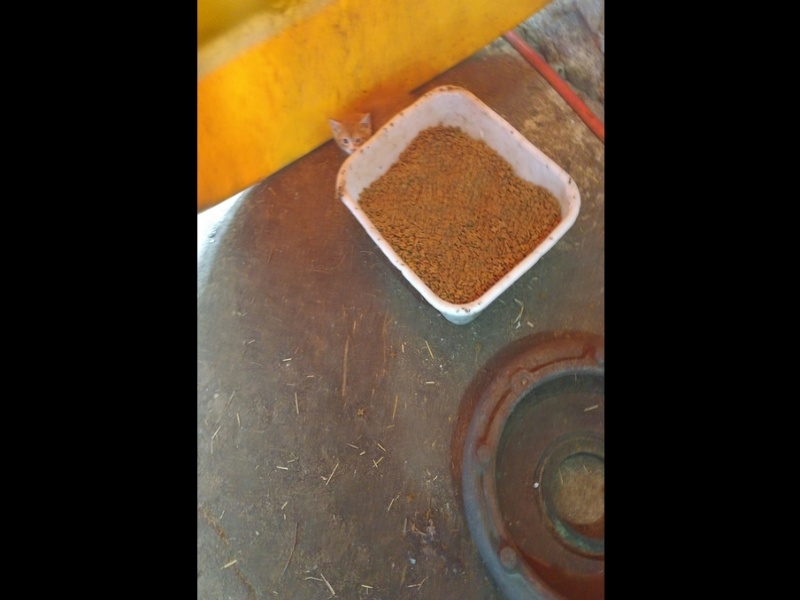cat: (330, 82, 416, 158)
